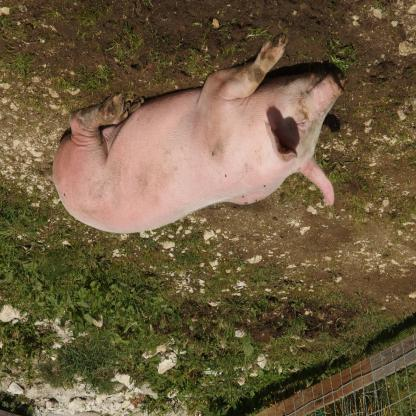boar: (51, 33, 345, 233)
